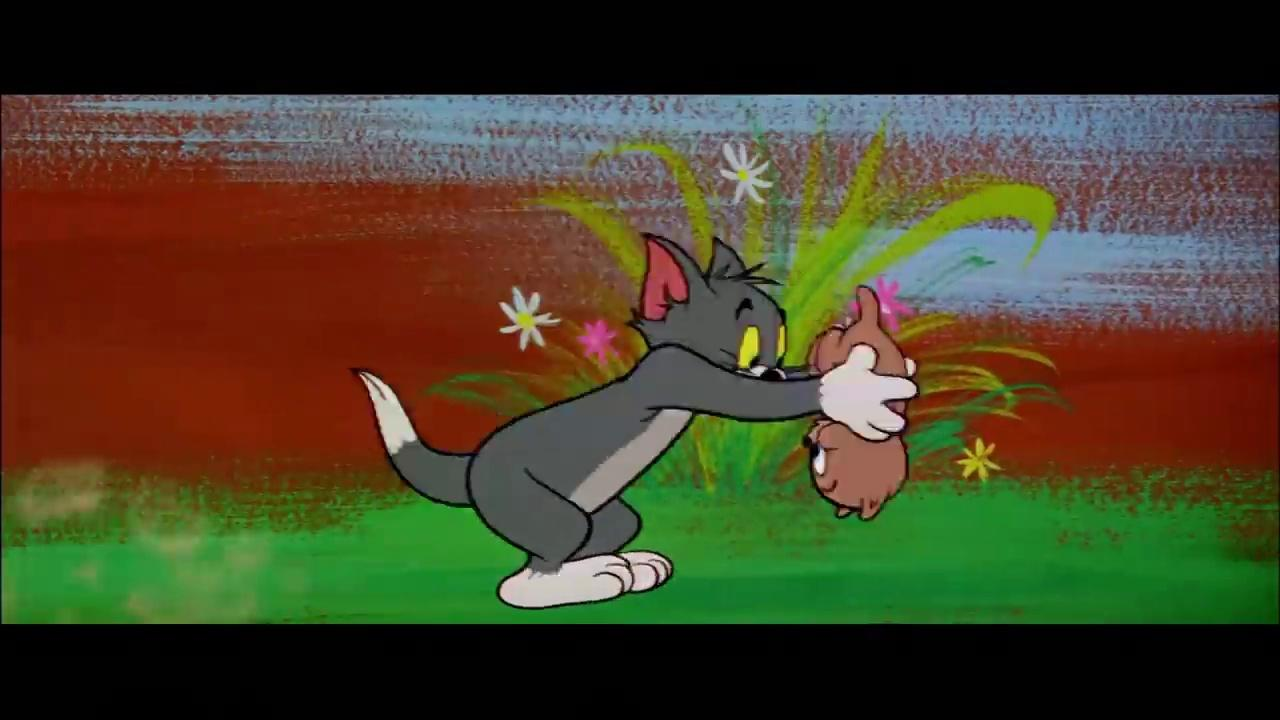Tom: (349, 229, 920, 611)
